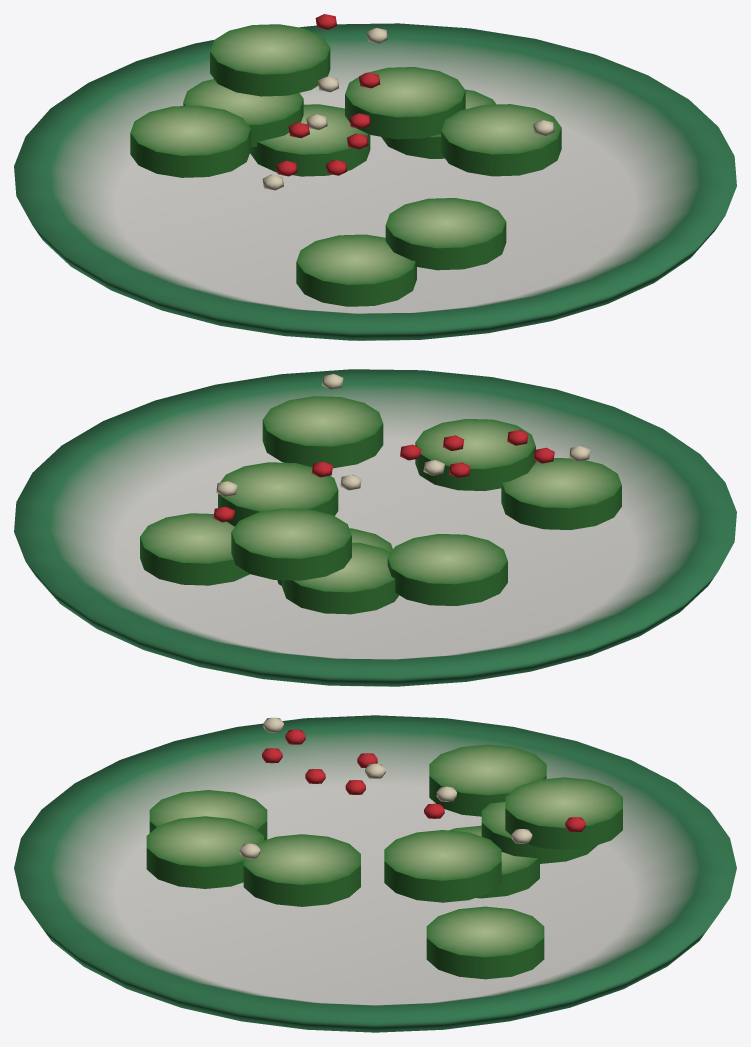
The model's file is item_dish_cuke_salad.glb.
3 renders of one model, top to bottom at view 1: azimuth 30°, elevation 25°; view 2: azimuth 150°, elevation 25°; view 3: azimuth 270°, elevation 25°, orthographic.
Parts seen in each view (by area): view 1: item_dish_cuke_salad_main; view 2: item_dish_cuke_salad_main; view 3: item_dish_cuke_salad_main.
Boxes of the visible parts, <box> form: item_dish_cuke_salad_main: <box>14,14,736,340</box>; item_dish_cuke_salad_main: <box>14,369,736,686</box>; item_dish_cuke_salad_main: <box>14,715,736,1032</box>.
Size of the model in its own units: 0.24 by 0.0478 by 0.24.
